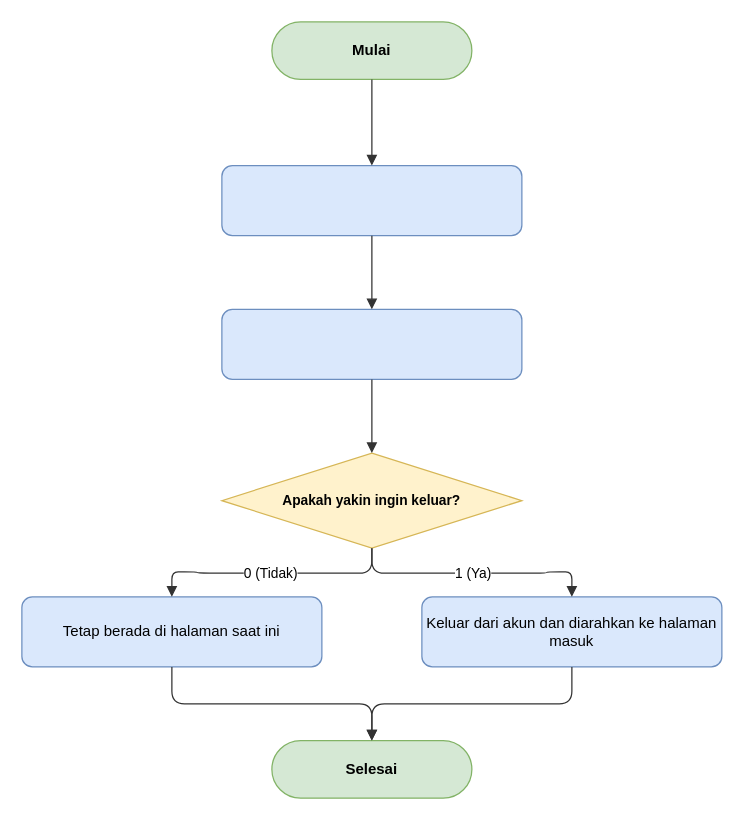
Some shapes in this 744 by 820 pixel diagram are drawn without their labels. The centre of each missing label's shape, as x and y in pixels:
Berada di halaman aplikasi (sudah masuk): pixel 371 200
Klik tombol keluar pada menu profil: pixel 371 343
